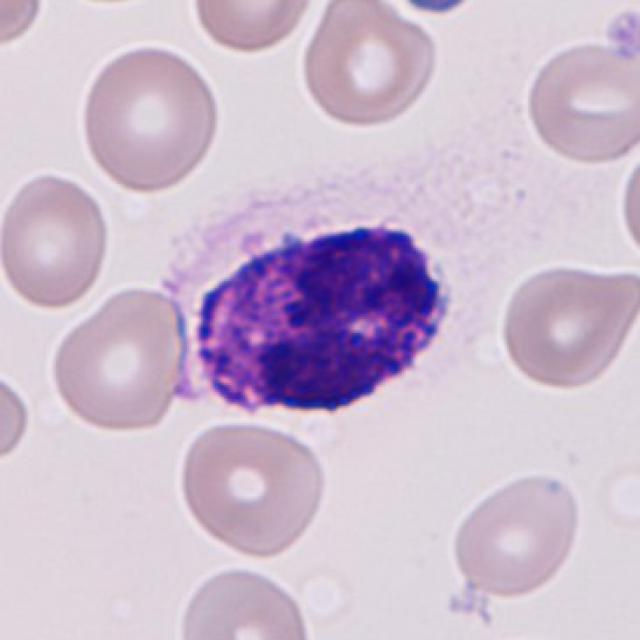Basophil: (156, 175, 474, 437)
Platelets: (600, 5, 638, 64), (384, 0, 484, 17)
RBC: (173, 414, 331, 562), (75, 40, 224, 196), (46, 280, 192, 436), (495, 258, 638, 392), (296, 0, 440, 130), (448, 467, 586, 600), (0, 166, 115, 313), (521, 38, 637, 167), (173, 562, 317, 640), (187, 0, 320, 57), (0, 363, 33, 470), (617, 139, 640, 269), (0, 0, 49, 57)
